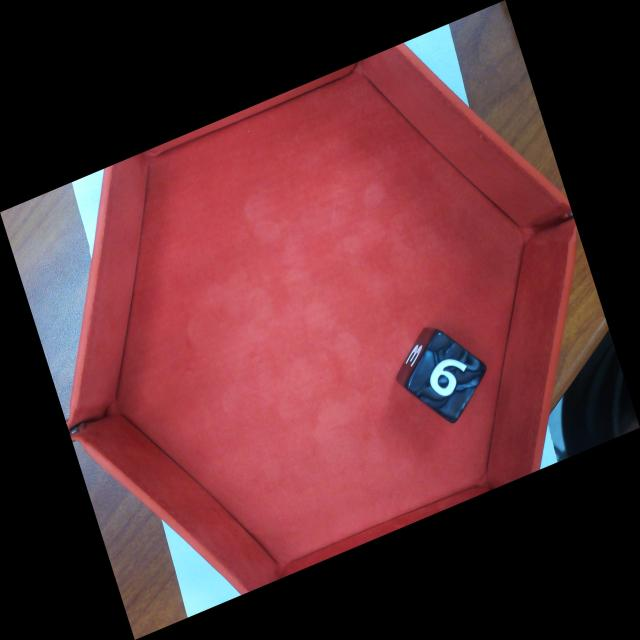dice: (402, 327, 490, 427)
